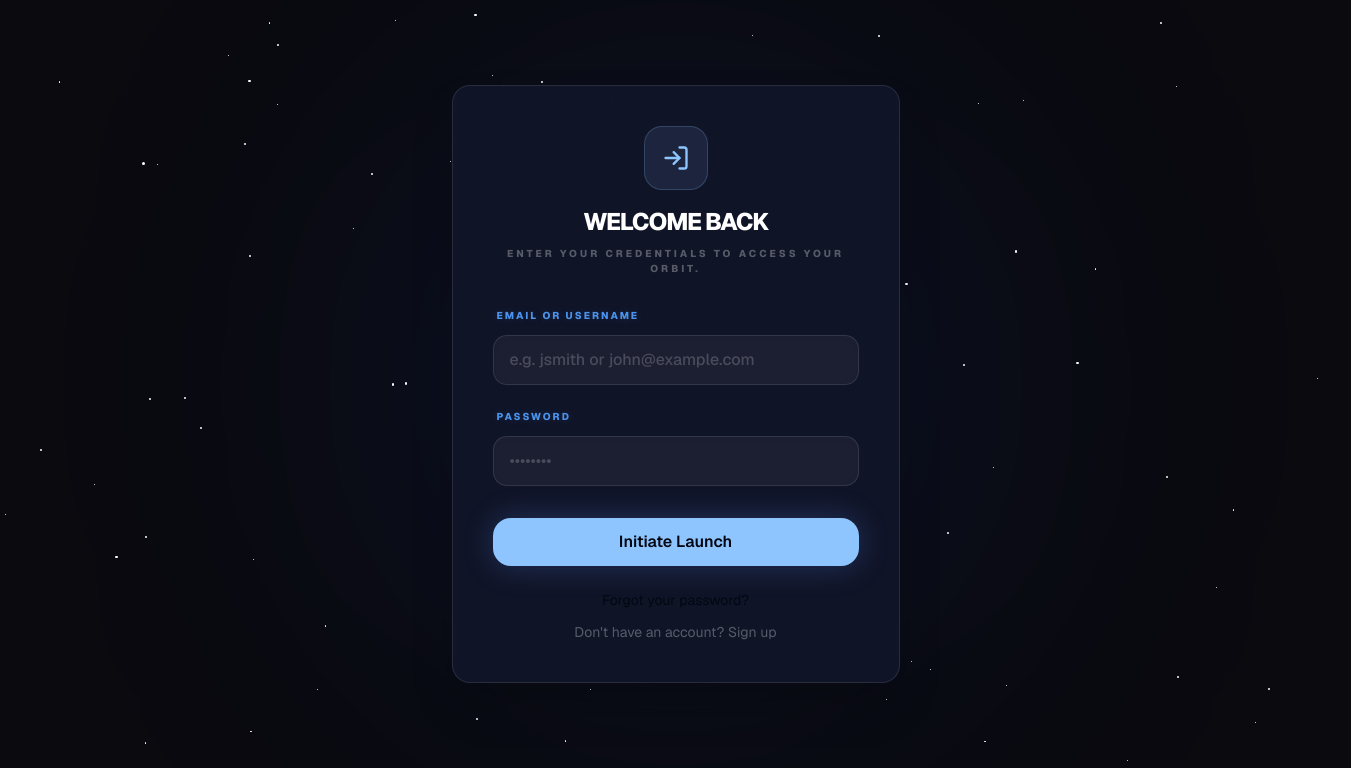
Scenario: LoginPage › shows banned error when signIn returns Banned
In the field with placeholder "e.g. jsmith or john@example.com": (676, 360) [492,335,858,385], type "deeti"
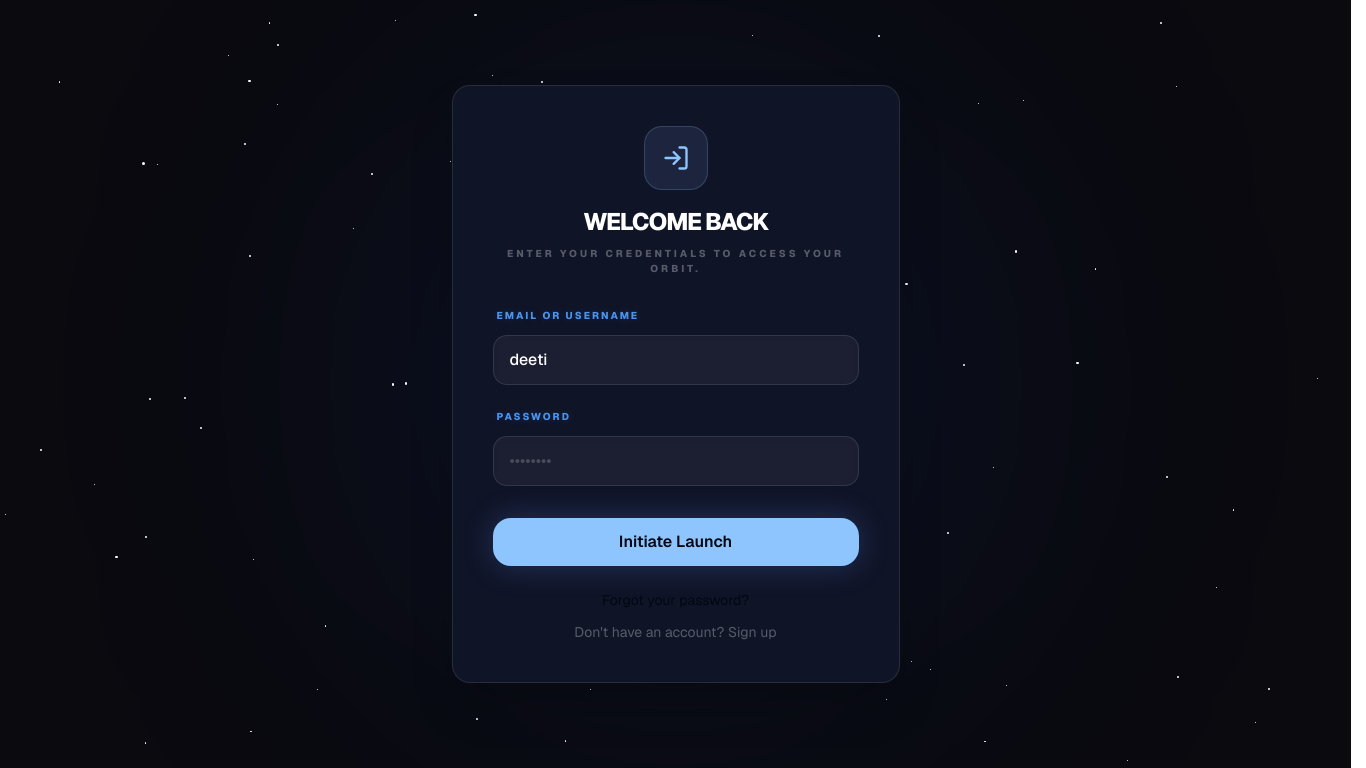
In the password field with placeholder "••••••••": (676, 461) [492,436,858,486], type "secret123"
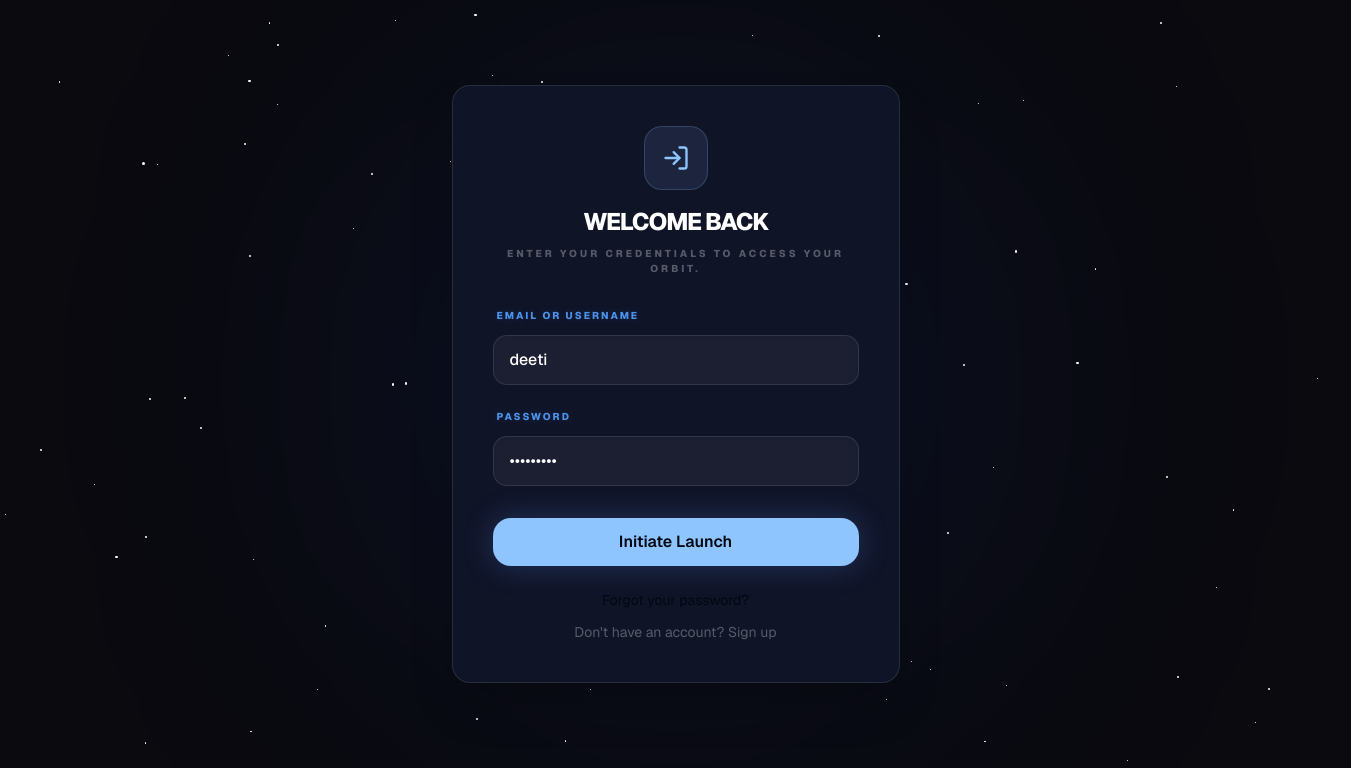
Click the button "Initiate Launch": (676, 542) [492,518,858,566]
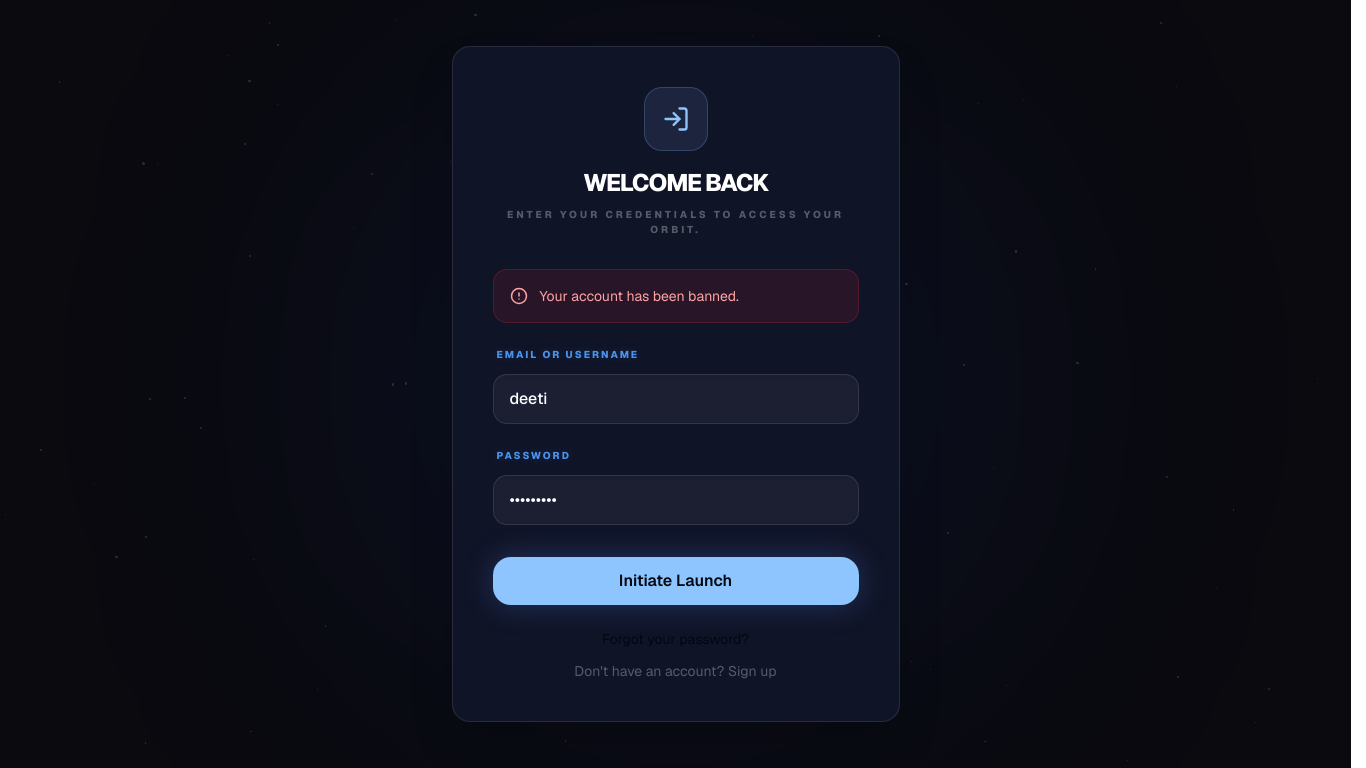
Expected: the button reads "Initiate Launch", [492,557,858,605]
Expected: the text "Your account has been banned." is shown, [540,286,739,306]
